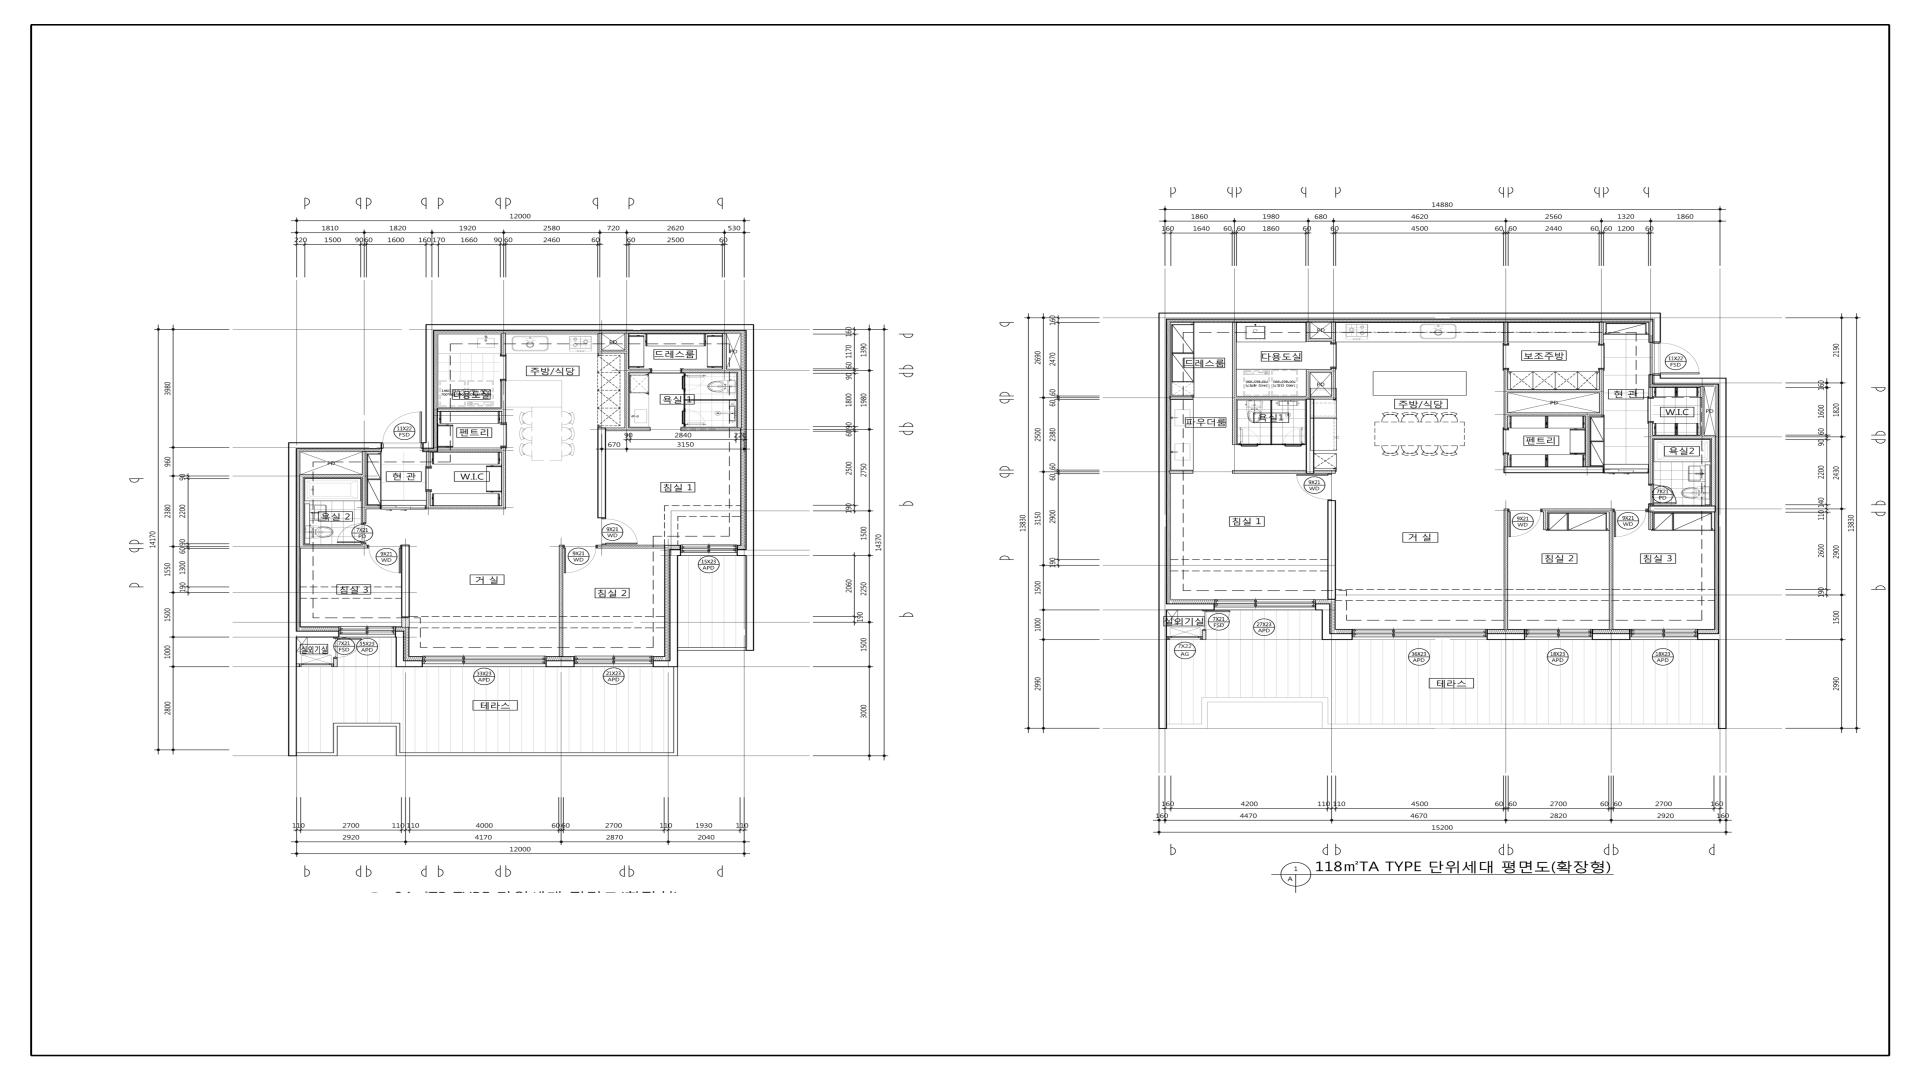door: (382, 411, 422, 444), (1659, 343, 1700, 375), (601, 518, 638, 545), (1613, 510, 1646, 538), (1296, 475, 1332, 500), (368, 547, 401, 574), (1509, 510, 1542, 537), (564, 547, 596, 574), (336, 524, 363, 543), (1651, 485, 1677, 505), (1205, 611, 1230, 630), (335, 638, 361, 657), (682, 409, 707, 425), (1240, 427, 1259, 447), (682, 376, 705, 392), (1283, 427, 1302, 447), (1604, 468, 1648, 473), (425, 468, 433, 491), (381, 505, 426, 509), (1647, 398, 1654, 423), (1502, 429, 1509, 454), (1598, 344, 1605, 369), (1502, 344, 1509, 369), (500, 356, 506, 380), (500, 425, 506, 447), (1331, 344, 1336, 368), (651, 369, 682, 373), (649, 429, 683, 430)
wall: (1158, 313, 1662, 640), (422, 324, 754, 555), (287, 442, 382, 667), (1652, 375, 1727, 640), (653, 549, 682, 667), (1315, 604, 1353, 641), (394, 630, 423, 667), (1327, 500, 1336, 600), (597, 427, 607, 518), (1305, 400, 1315, 473), (401, 545, 410, 617), (1503, 467, 1604, 473), (1232, 322, 1237, 444), (1609, 509, 1614, 629), (1503, 509, 1509, 629), (1648, 505, 1716, 513), (559, 545, 563, 657), (361, 451, 367, 524), (1507, 413, 1604, 417), (625, 334, 629, 427), (1507, 389, 1600, 393), (299, 543, 368, 549), (501, 447, 506, 509), (426, 505, 501, 509), (1232, 469, 1305, 473), (1237, 396, 1311, 400), (1712, 438, 1716, 505), (597, 545, 665, 549), (299, 477, 303, 545), (1700, 386, 1705, 435), (436, 407, 501, 411), (1486, 633, 1524, 640), (1652, 435, 1716, 439), (438, 448, 501, 452), (1648, 423, 1652, 485), (1593, 633, 1630, 640), (501, 380, 506, 425), (1503, 369, 1507, 429), (683, 427, 741, 431), (737, 372, 741, 427), (1585, 417, 1589, 467), (546, 661, 575, 667), (721, 334, 727, 369), (1542, 509, 1609, 512), (1600, 369, 1604, 413), (605, 427, 649, 431), (299, 475, 361, 477), (682, 369, 741, 372), (1331, 368, 1336, 397), (1305, 369, 1311, 396), (1503, 322, 1509, 344), (501, 334, 506, 356), (1270, 400, 1273, 443), (1331, 322, 1336, 343), (597, 349, 625, 353), (1311, 396, 1336, 400), (1543, 512, 1548, 530), (401, 617, 410, 628), (1170, 469, 1193, 473), (1170, 396, 1193, 400), (1600, 323, 1604, 344), (1315, 469, 1336, 473), (597, 334, 603, 349), (1311, 369, 1332, 373), (1503, 454, 1509, 467), (1648, 513, 1652, 530), (686, 400, 737, 401), (1305, 322, 1309, 339), (1305, 339, 1331, 342), (426, 452, 430, 468), (1259, 443, 1282, 446), (629, 369, 651, 372), (426, 491, 430, 505), (367, 505, 381, 509), (1201, 630, 1207, 640), (683, 392, 686, 410), (1648, 388, 1652, 398), (334, 657, 338, 667), (297, 663, 299, 667)
window: (423, 655, 546, 667), (1352, 629, 1486, 640), (1215, 599, 1315, 611), (575, 655, 653, 667), (1524, 629, 1593, 640), (1630, 629, 1697, 640), (680, 545, 737, 555), (339, 626, 394, 637), (299, 663, 334, 667), (1167, 637, 1201, 640)
